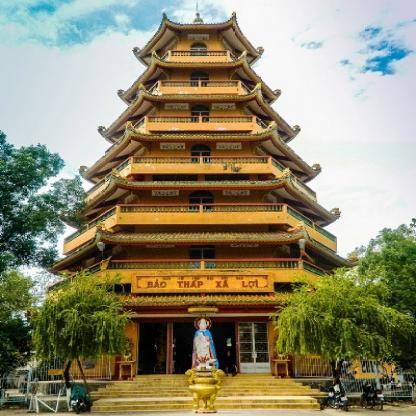Building Outline: (43, 3, 359, 381)
Dont: (267, 217, 416, 385), (23, 268, 139, 388), (27, 174, 90, 235), (184, 366, 226, 413), (191, 317, 218, 371)
Door: (172, 322, 235, 374), (139, 322, 168, 374), (189, 242, 216, 269), (189, 190, 214, 213), (191, 144, 210, 163), (191, 105, 209, 123), (190, 71, 208, 87), (190, 43, 207, 55)
Facade: (63, 203, 337, 381)
Floor: (102, 225, 303, 279), (116, 173, 286, 220), (130, 130, 272, 169), (146, 93, 256, 126), (158, 65, 241, 89), (169, 29, 229, 61)
Floor Slab: (102, 279, 303, 283), (116, 220, 286, 224), (130, 170, 272, 174), (146, 126, 256, 130), (158, 90, 241, 94), (169, 61, 229, 65)
Glass Wall: (240, 322, 270, 374)
Ground Floor: (64, 283, 344, 381)
Roof: (43, 220, 358, 275), (58, 168, 341, 228), (79, 121, 321, 185), (97, 83, 301, 145), (116, 50, 282, 106), (132, 10, 264, 68)
Shop: (132, 273, 274, 292)
